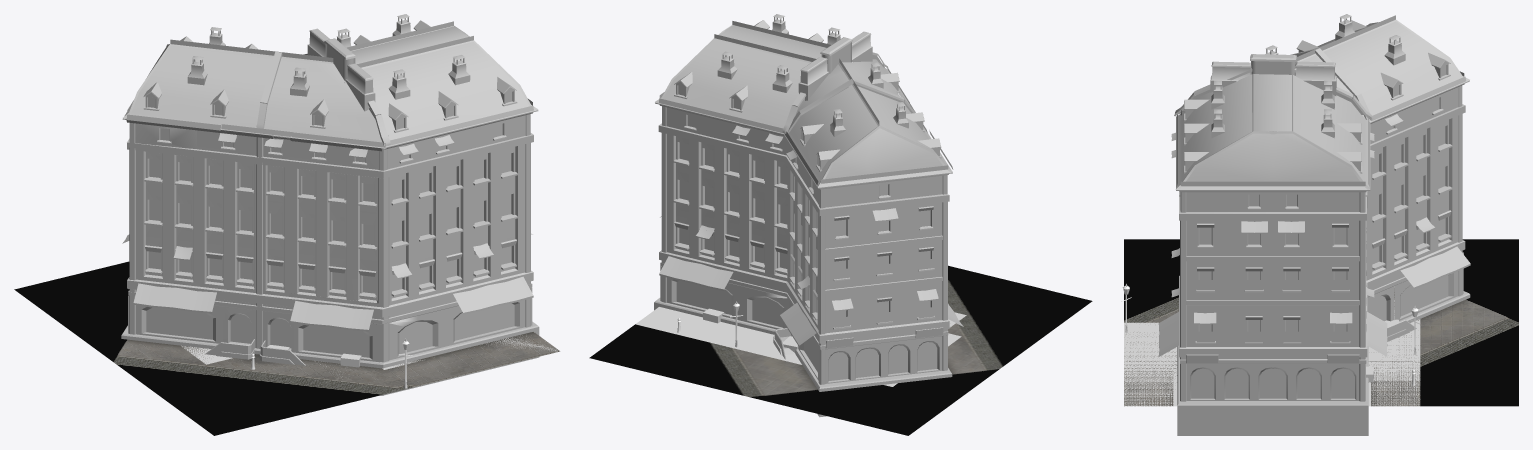
Rendered from wide.gltf.
The picture shows the model from 3 angles, left to right: view 1: azimuth 30°, elevation 25°; view 2: azimuth 150°, elevation 25°; view 3: azimuth 270°, elevation 25°; orthographic projection. The views are drawn at different scales.
Parts seen in each view (by area): view 1: _lod0, _ground; view 2: _lod0, _ground, BuildBlocker11; view 3: _lod0, _ground, BuildBlocker11.
Part boxes in pixels (left/top/right/bottom): _lod0: left=121, top=14, right=539, bottom=395; _ground: left=14, top=261, right=559, bottom=435; _lod0: left=654, top=14, right=963, bottom=417; _ground: left=589, top=265, right=1092, bottom=435; BuildBlocker11: left=635, top=307, right=798, bottom=363; _lod0: left=1158, top=14, right=1470, bottom=435; _ground: left=1124, top=239, right=1518, bottom=406; BuildBlocker11: left=1124, top=322, right=1420, bottom=406.
Size of what is drawn, in the model's own units: 4.11 by 3.45 by 4.03.
